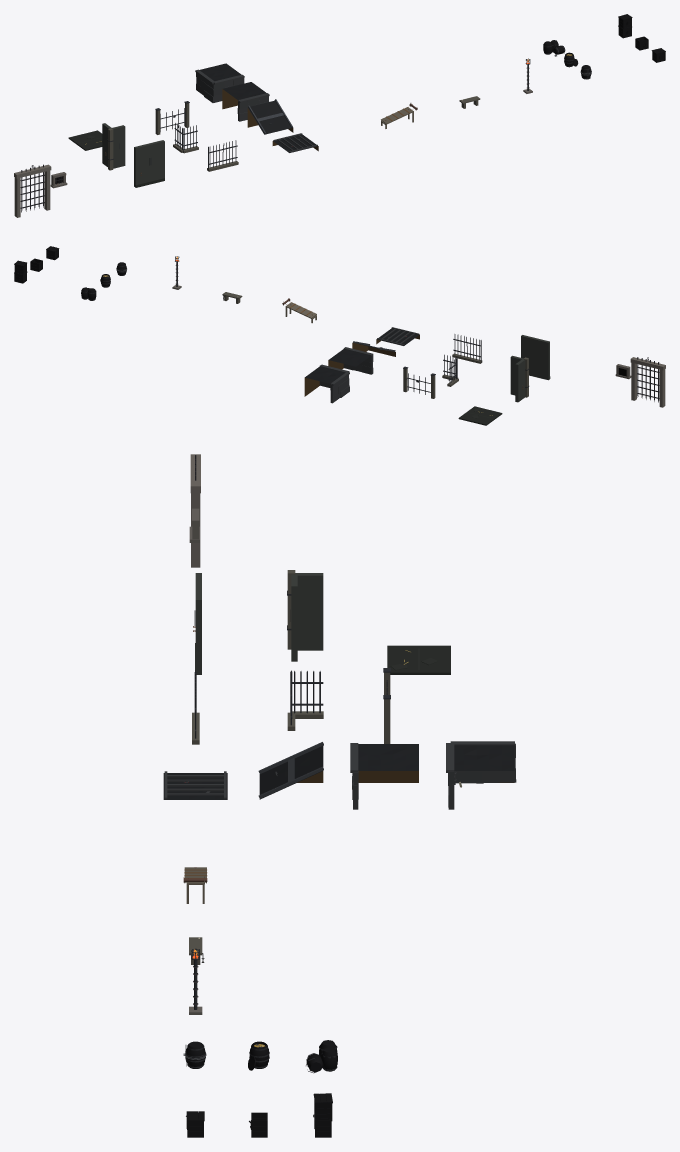
Rendered from Prison_FullBuild.glb.
3 views of the same model, one above another, from view 1: azimuth 30°, elevation 25°; view 2: azimuth 150°, elevation 25°; view 3: azimuth 270°, elevation 25° (orthographic). The views are drawn at different scales.
Parts seen in each view (by area): view 1: SM_Wall_PrisonStone_05_Straight_Panel, SM_Terrain_Prison_05_Slope_Ramp, SM_Terrain_Prison_05_Cliff_Wall, SM_Wall_PrisonStone_05_Corner_PanelX, SM_Wall_PrisonStone_05_Floor_Slab, SM_Terrain_Prison_05_Corner_Wall, SM_Terrain_Prison_05_Flat_Grate; view 2: SM_Wall_PrisonStone_05_Straight_Panel, SM_Terrain_Prison_05_Corner_Wall, SM_Terrain_Prison_05_Cliff_Wall, SM_Wall_PrisonStone_05_Floor_Slab, SM_Wall_PrisonStone_05_Corner_PanelY, SM_Terrain_Prison_05_Flat_Grate, SM_Wall_PrisonStone_05_Corner_PanelX; view 3: SM_Terrain_Prison_05_Cliff_Wall, SM_Wall_PrisonStone_05_Corner_PanelY, SM_Wall_PrisonStone_05_Floor_Slab, SM_Terrain_Prison_05_Corner_Wall, SM_Terrain_Prison_05_Slope_Ramp, SM_Terrain_Prison_05_Flat_Grate.
Boxes of the visible parts, x1,y1,x2,y2 form: SM_Wall_PrisonStone_05_Straight_Panel: (134, 140, 164, 187); SM_Terrain_Prison_05_Slope_Ramp: (247, 100, 293, 134); SM_Terrain_Prison_05_Cliff_Wall: (222, 82, 266, 109); SM_Wall_PrisonStone_05_Corner_PanelX: (111, 125, 125, 168); SM_Wall_PrisonStone_05_Floor_Slab: (68, 130, 102, 150); SM_Terrain_Prison_05_Corner_Wall: (199, 63, 241, 81); SM_Terrain_Prison_05_Flat_Grate: (272, 134, 318, 152); SM_Wall_PrisonStone_05_Straight_Panel: (521, 335, 549, 380); SM_Terrain_Prison_05_Corner_Wall: (304, 366, 344, 396); SM_Terrain_Prison_05_Cliff_Wall: (328, 349, 370, 369); SM_Wall_PrisonStone_05_Floor_Slab: (458, 406, 502, 425); SM_Wall_PrisonStone_05_Corner_PanelY: (515, 359, 524, 402); SM_Terrain_Prison_05_Flat_Grate: (376, 328, 419, 345); SM_Wall_PrisonStone_05_Corner_PanelX: (510, 355, 525, 397); SM_Terrain_Prison_05_Cliff_Wall: (358, 744, 418, 782); SM_Wall_PrisonStone_05_Corner_PanelY: (297, 573, 323, 650); SM_Wall_PrisonStone_05_Floor_Slab: (387, 645, 450, 674); SM_Terrain_Prison_05_Corner_Wall: (454, 745, 514, 782); SM_Terrain_Prison_05_Slope_Ramp: (259, 746, 323, 799); SM_Terrain_Prison_05_Flat_Grate: (163, 773, 227, 799).
Bounding box in the file's own units: 44.64 × 3.21 × 11.04.
